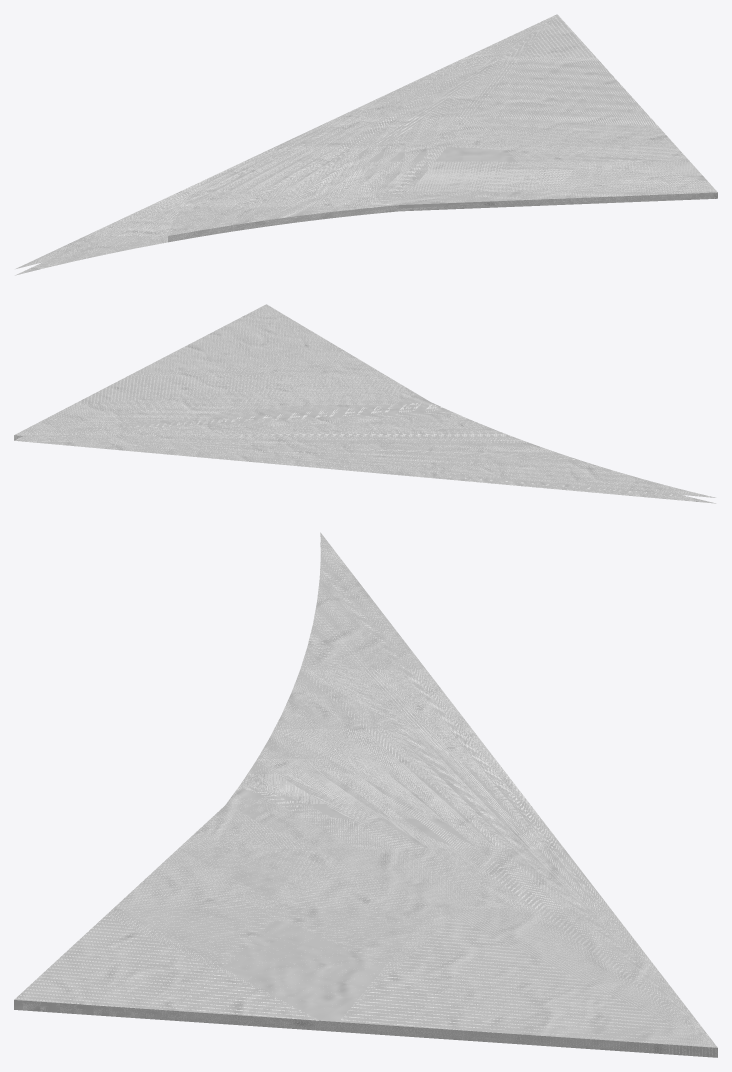
3 views of the same model, one above another, from view 1: azimuth 30°, elevation 25°; view 2: azimuth 150°, elevation 25°; view 3: azimuth 270°, elevation 25° (orthographic). The views are drawn at different scales.
Size of the model in its own units: 0.1906 by 0.00172 by 0.1099.
